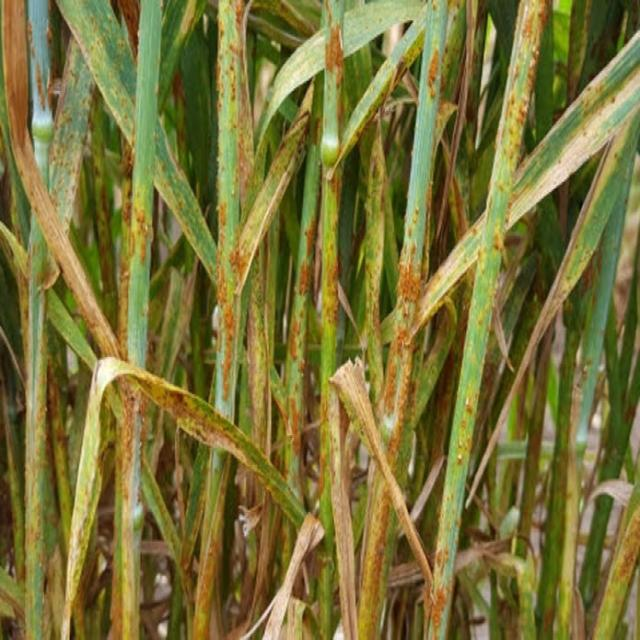wheat-stemrust: (494, 0, 551, 178), (361, 481, 392, 633), (218, 197, 237, 400), (386, 347, 416, 469), (215, 0, 245, 118), (393, 202, 422, 321), (325, 16, 346, 123), (385, 327, 409, 418), (615, 503, 640, 587), (119, 377, 135, 506), (128, 195, 154, 271), (300, 213, 316, 299), (430, 584, 451, 632), (323, 256, 337, 327), (289, 392, 303, 456), (288, 314, 303, 366), (427, 48, 440, 104), (229, 248, 252, 275), (436, 545, 449, 576)
